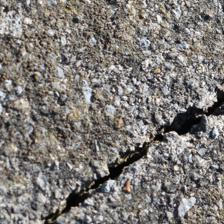Crack: (23, 46, 194, 178)
